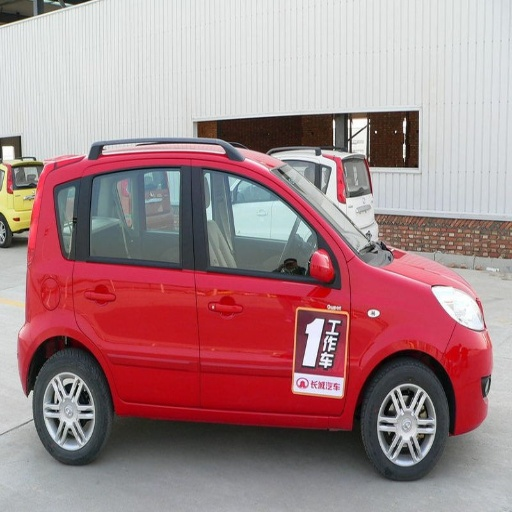front_bumper: (452, 325, 479, 391)
front_right_door: (194, 157, 349, 413)
